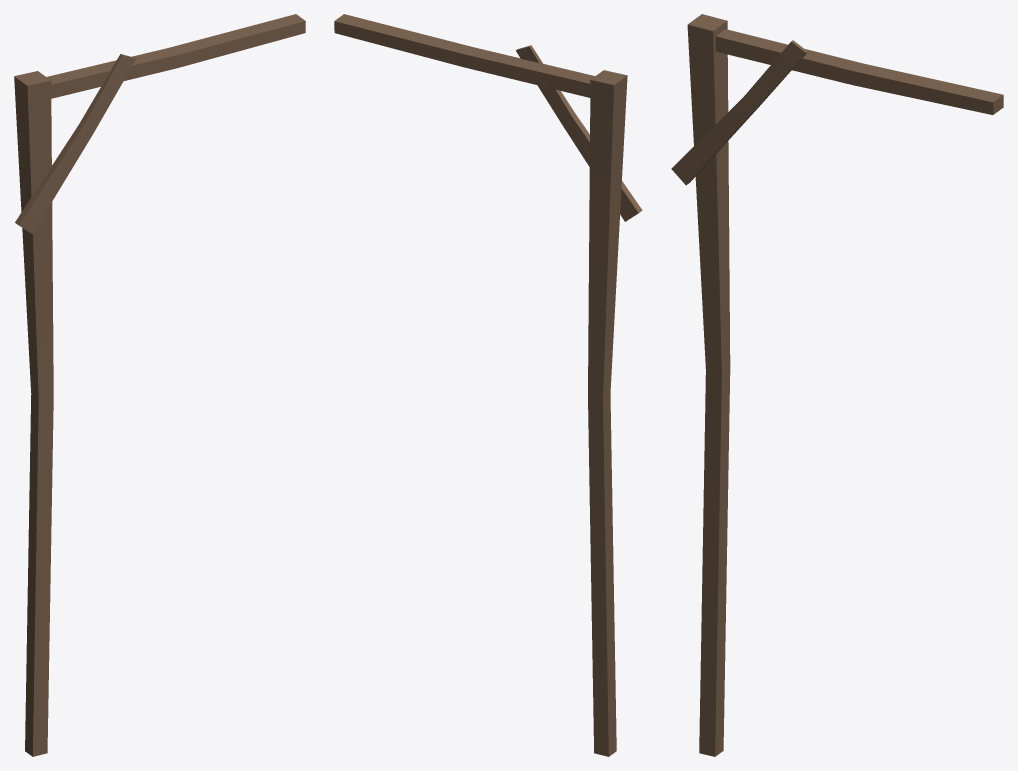
File: Flag Pole 1.fbx
The picture shows the model from 3 angles, left to right: view 1: azimuth 30°, elevation 25°; view 2: azimuth 150°, elevation 25°; view 3: azimuth 330°, elevation 25°; orthographic projection. The views are drawn at different scales.
Parts seen in each view (by area): view 1: Flag Pole 1; view 2: Flag Pole 1; view 3: Flag Pole 1.
Boxes of the visible parts, x1,y1,x2,y2 form: Flag Pole 1: (14,14,305,756); Flag Pole 1: (334,14,642,756); Flag Pole 1: (671,14,1003,756).
Size of the model in its own units: 142 by 316 by 13.87.
